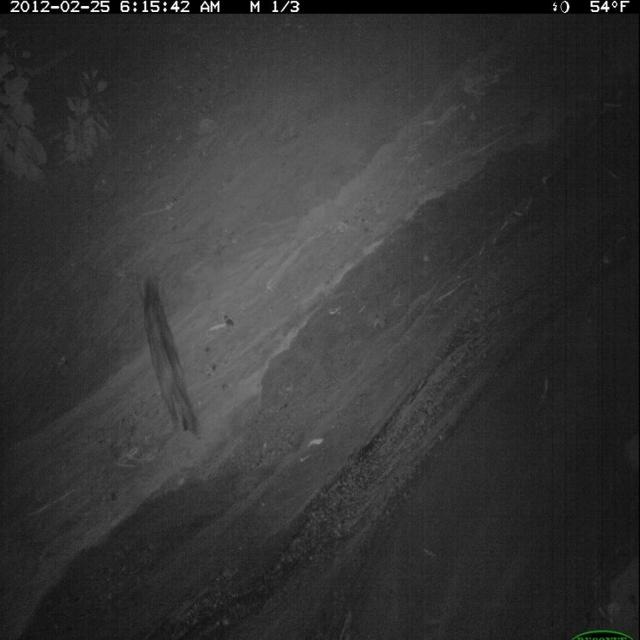cat: (138, 273, 203, 444)
